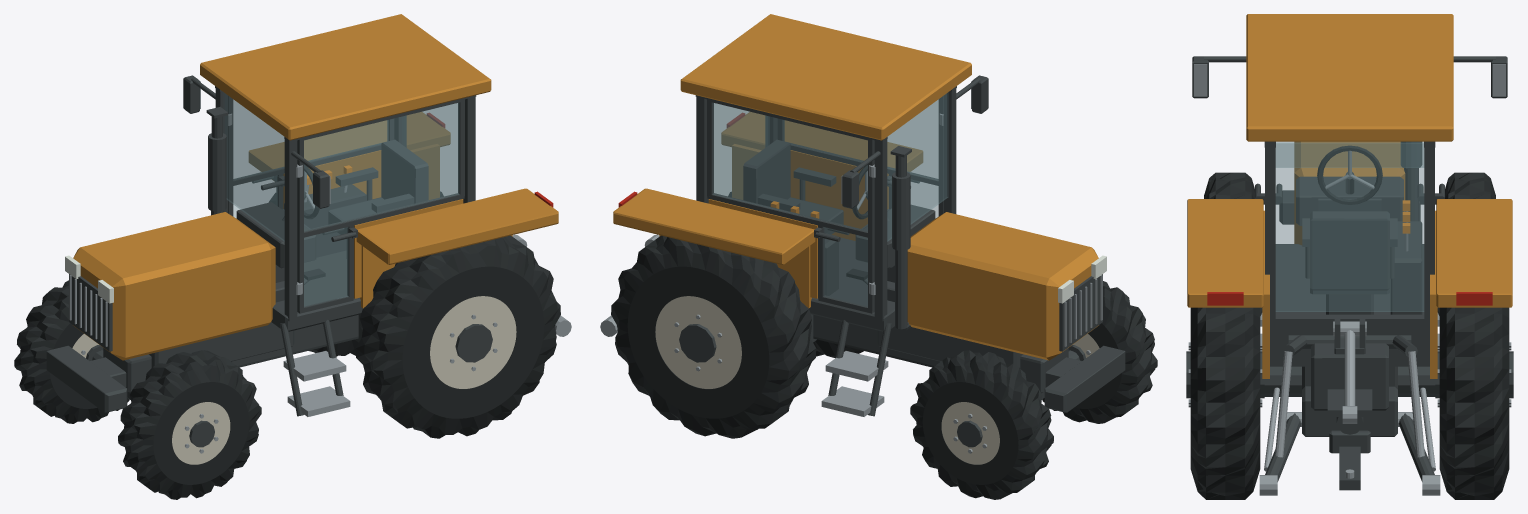
3 renders of one model, left to right at view 1: azimuth 30°, elevation 25°; view 2: azimuth 150°, elevation 25°; view 3: azimuth 270°, elevation 25°, orthographic. The views are drawn at different scales.
Parts seen in each view (by area): view 1: Rear_L_tire, Roof, Hood, Door_glass_upper-1, Front_L_tire, Fender-1, Windshield, Front_R_tire, Rear_L_rim, Door_glass_upper1, Fender1, Rear_glass (+28 smaller); view 2: Rear_R_tire, Roof, Hood, Door_glass_upper1, Front_R_tire, Fender1, Front_L_tire, Rear_R_rim, Windshield, Door_glass_upper-1, Rear_glass, Fender-1 (+30 smaller); view 3: Roof, Rear_glass, Rear_L_tire, Rear_R_tire, Fender-1, Fender1, Seat_back, Cab_floor, Rear_hydraulic_housing, Hood, Windshield, Rear_bulkhead (+35 smaller).
Boxes of the visible parts, x1=… form: Rear_L_tire: x1=355, y1=235, x2=560, y2=438; Roof: x1=200, y1=14, x2=491, y2=140; Hood: x1=73, y1=212, x2=275, y2=360; Door_glass_upper-1: x1=304, y1=103, x2=459, y2=231; Front_L_tire: x1=118, y1=350, x2=261, y2=499; Fender-1: x1=356, y1=188, x2=558, y2=264; Windshield: x1=223, y1=93, x2=284, y2=241; Front_R_tire: x1=14, y1=280, x2=129, y2=423; Rear_L_rim: x1=430, y1=296, x2=516, y2=388; Door_glass_upper1: x1=233, y1=100, x2=388, y2=179; Fender1: x1=249, y1=112, x2=450, y2=181; Rear_glass: x1=403, y1=103, x2=457, y2=199; Rear_R_tire: x1=611, y1=235, x2=816, y2=438; Roof: x1=680, y1=14, x2=971, y2=140; Hood: x1=907, y1=212, x2=1098, y2=360; Door_glass_upper1: x1=712, y1=103, x2=867, y2=231; Front_R_tire: x1=910, y1=350, x2=1053, y2=499; Fender1: x1=613, y1=188, x2=815, y2=264; Front_L_tire: x1=1042, y1=281, x2=1157, y2=423; Rear_R_rim: x1=655, y1=296, x2=741, y2=388; Windshield: x1=887, y1=93, x2=948, y2=241; Door_glass_upper-1: x1=783, y1=100, x2=938, y2=179; Rear_glass: x1=714, y1=103, x2=768, y2=199; Fender-1: x1=721, y1=112, x2=922, y2=171; Roof: x1=1246, y1=14, x2=1453, y2=141; Rear_glass: x1=1276, y1=143, x2=1423, y2=311; Rear_L_tire: x1=1190, y1=307, x2=1260, y2=499; Rear_R_tire: x1=1439, y1=307, x2=1509, y2=499; Fender-1: x1=1187, y1=199, x2=1263, y2=307; Fender1: x1=1436, y1=199, x2=1512, y2=307; Seat_back: x1=1310, y1=211, x2=1389, y2=290; Cab_floor: x1=1270, y1=244, x2=1429, y2=366; Rear_hydraulic_housing: x1=1311, y1=343, x2=1388, y2=410; Hood: x1=1294, y1=141, x2=1405, y2=244; Windshield: x1=1276, y1=142, x2=1423, y2=167; Rear_bulkhead: x1=1275, y1=314, x2=1424, y2=353.
Bounding box in the file's own units: 3.69 × 2.56 × 1.97.
